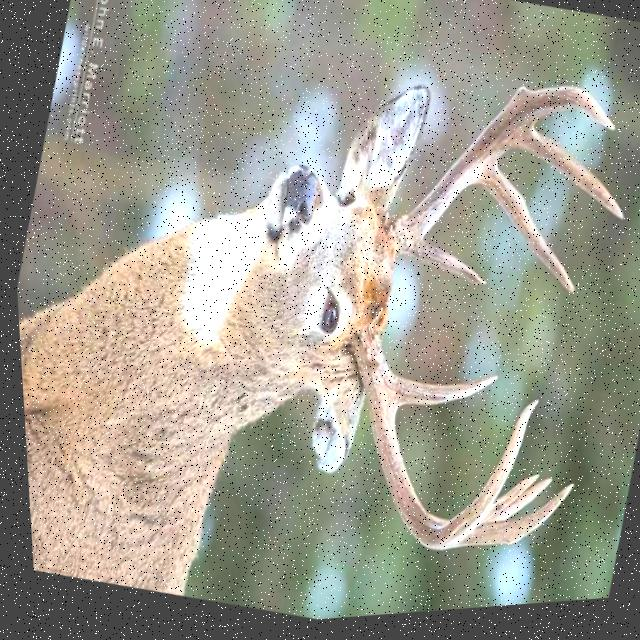L-F: (347, 329, 532, 556)
L-G1: (384, 376, 492, 416)
R-F: (380, 93, 611, 264)
R-G1: (398, 244, 482, 292)
R-G2: (470, 168, 570, 302)
R-G3: (509, 134, 619, 229)
